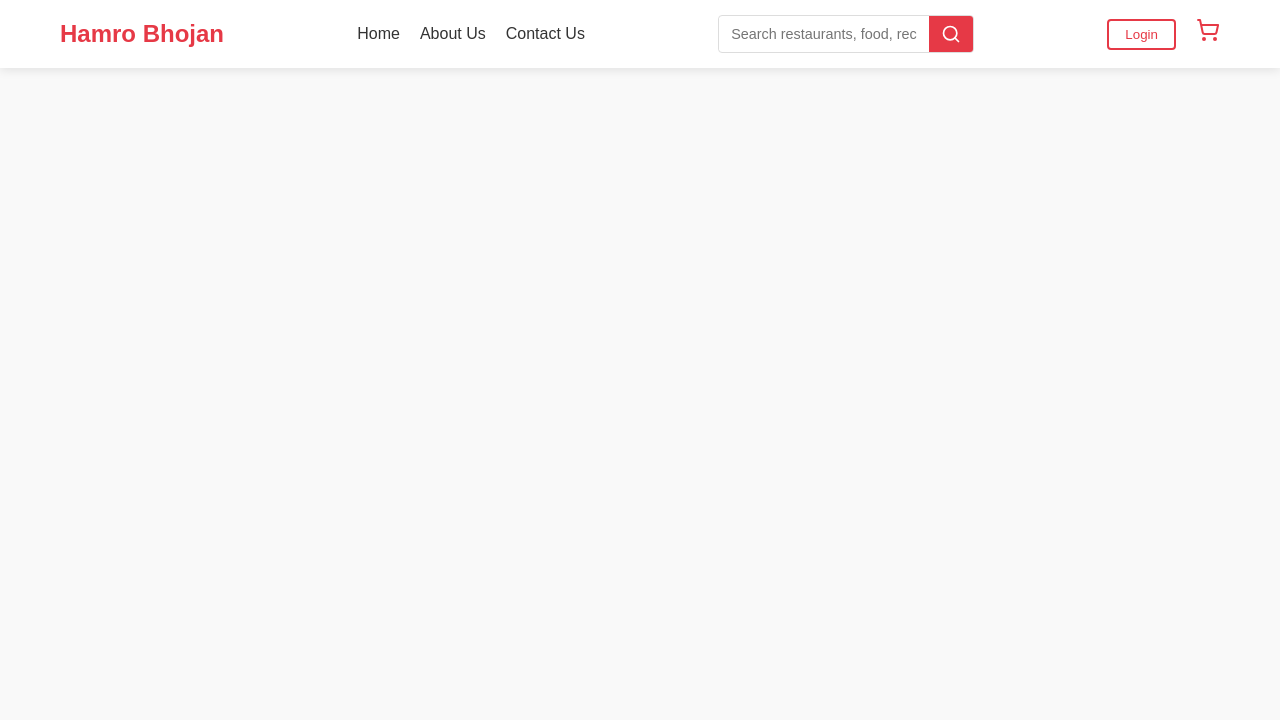
Test case: Should change login button to Sign up button if clicked in sign up link
Click the button "Login" at (1142, 34), box [1107,19,1176,50]
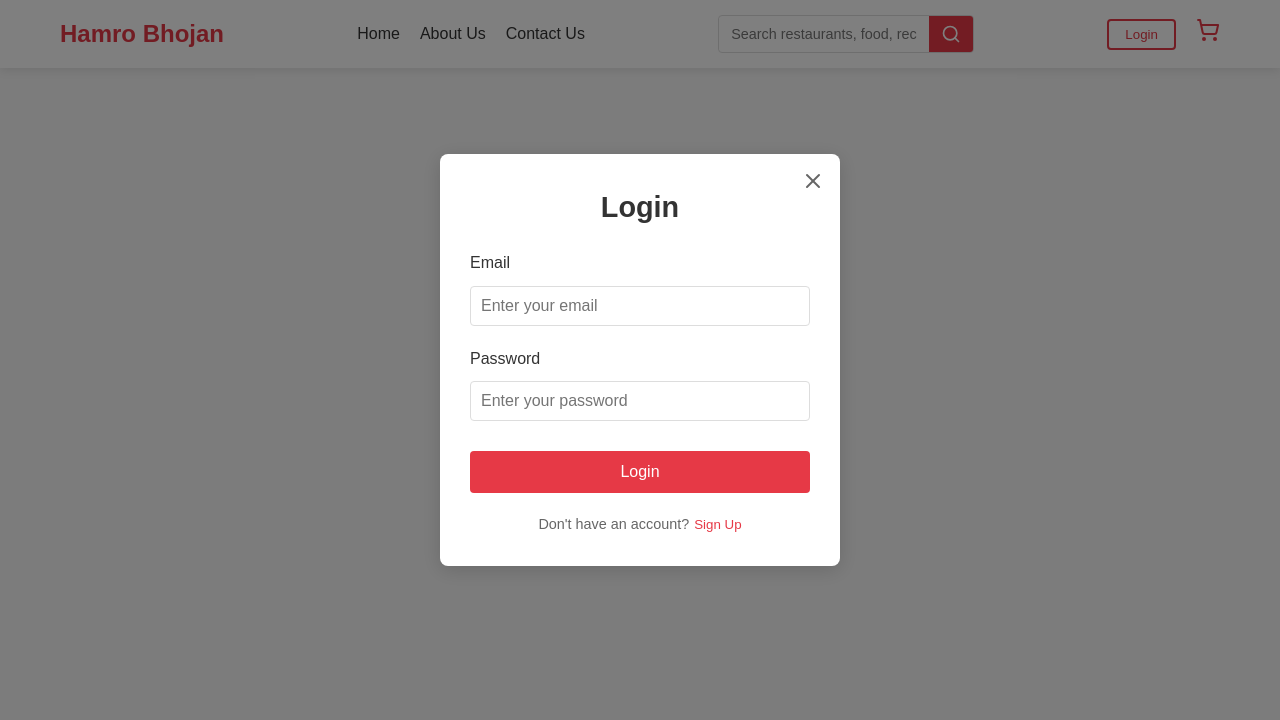
Result: the button "Sign Up" is shown at [694,517,742,532]
